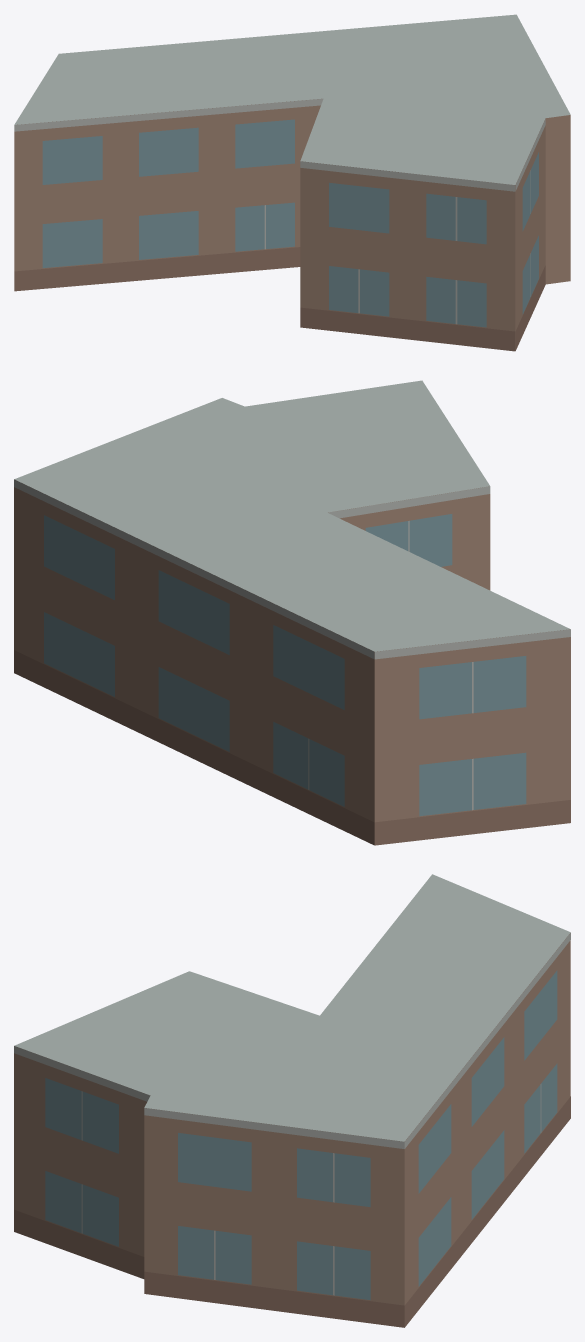
Rendered from survey-upis-32755640.glb.
3 views of the same model, one above another, from view 1: azimuth 30°, elevation 25°; view 2: azimuth 150°, elevation 25°; view 3: azimuth 270°, elevation 25° (orthographic). The views are drawn at different scales.
Visible parts, largest first — view 1: survey-upis-32755640.tmp; view 2: survey-upis-32755640.tmp; view 3: survey-upis-32755640.tmp.
Part boxes in pixels (x1,y1,x2,y2): survey-upis-32755640.tmp: (14,14,570,351); survey-upis-32755640.tmp: (14,380,570,845); survey-upis-32755640.tmp: (14,874,570,1327).
Bounding box in the file's own units: 18.83 × 6.1 × 16.55.
